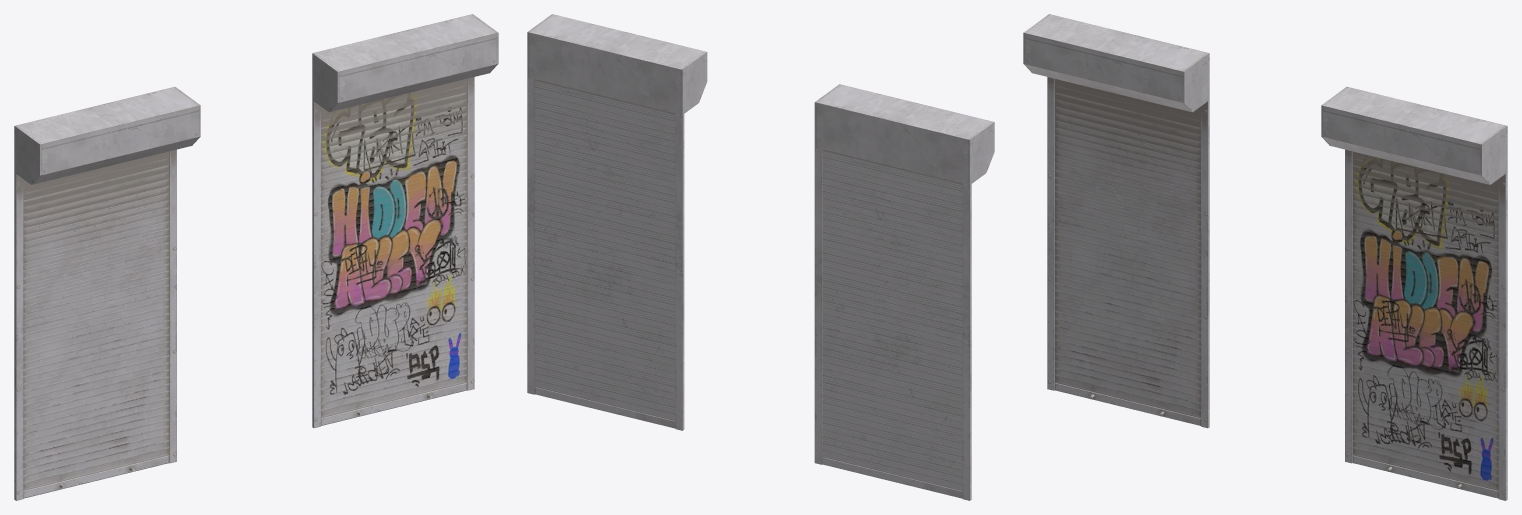
The model's file is rollershutter_door.glb.
3 views of the same model, side by side, from view 1: azimuth 30°, elevation 25°; view 2: azimuth 150°, elevation 25°; view 3: azimuth 330°, elevation 25° (orthographic). The views are drawn at different scales.
Visible parts, largest first — view 1: rollershutter_door, rollershutter_door_graffiti; view 2: rollershutter_door, rollershutter_door_graffiti; view 3: rollershutter_door_graffiti, rollershutter_door.
Boxes of the visible parts, left/top/right/bottom form: rollershutter_door: left=14, top=86, right=200, bottom=500; rollershutter_door_graffiti: left=312, top=14, right=498, bottom=428; rollershutter_door: left=814, top=84, right=994, bottom=500; rollershutter_door_graffiti: left=527, top=14, right=707, bottom=430; rollershutter_door_graffiti: left=1321, top=86, right=1507, bottom=500; rollershutter_door: left=1023, top=14, right=1209, bottom=428.
Size of the model in its own units: 3.08 by 2.4 by 0.3.
2 materials, 2 textured.
